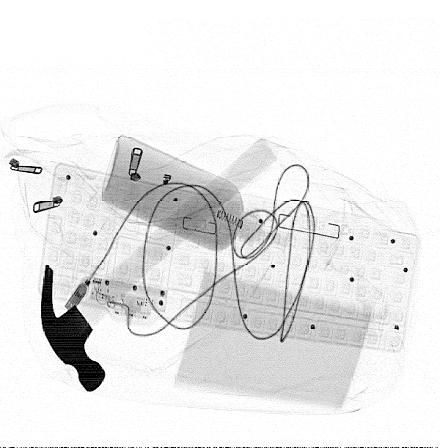Hammer: (40, 136, 278, 392)
